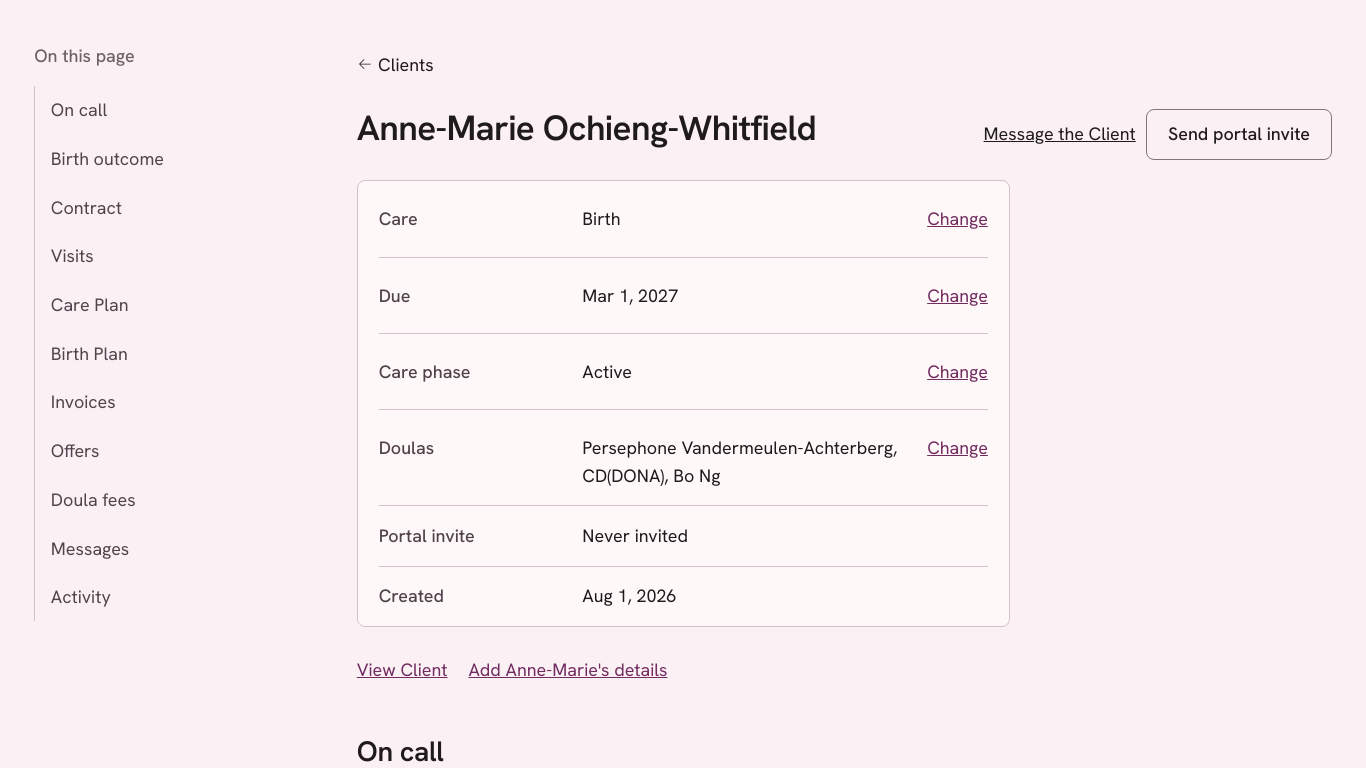
Test: the due date's Change (#2013) › puts the BFF's own refusal on the boxes and leaves the form open
Click the button "Change" in the row of "Mar 1, 2027".
click(958, 295)  # box [927,273,988,317]
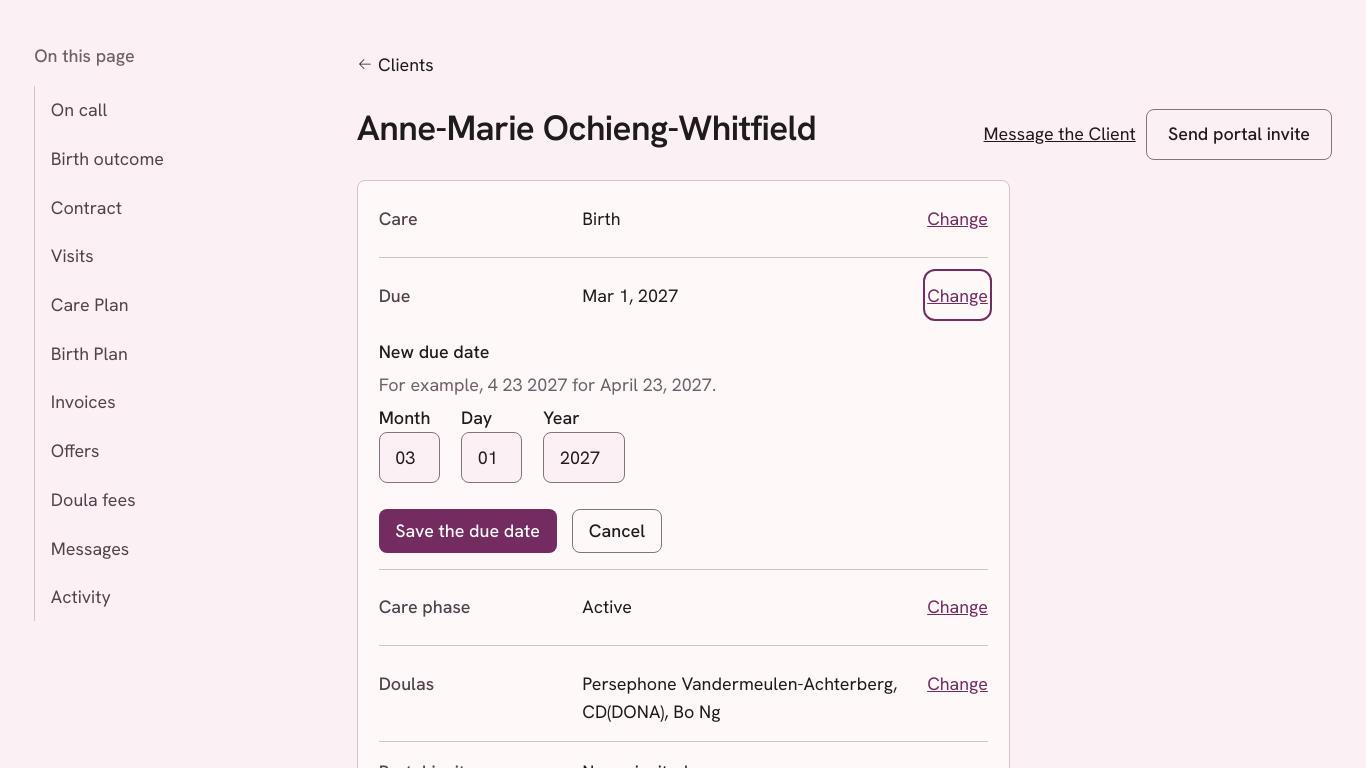
Click the button "Save the due date".
click(468, 531)  # box [379,509,556,553]
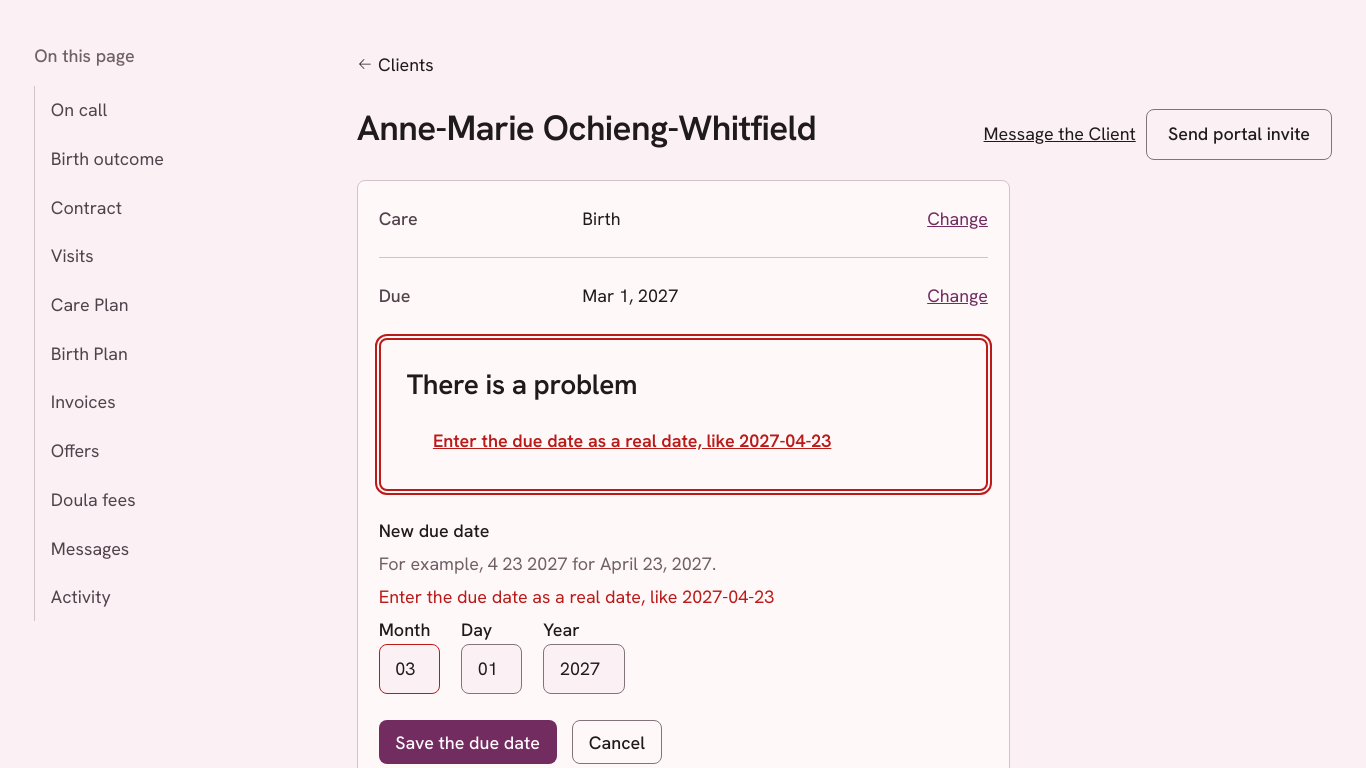
Check: the element "New due date" is shown, box [379,519,774,694]
Check: the link "Enter the due date as a real date, like 2027-04-23" is shown, box [433,429,831,452]
